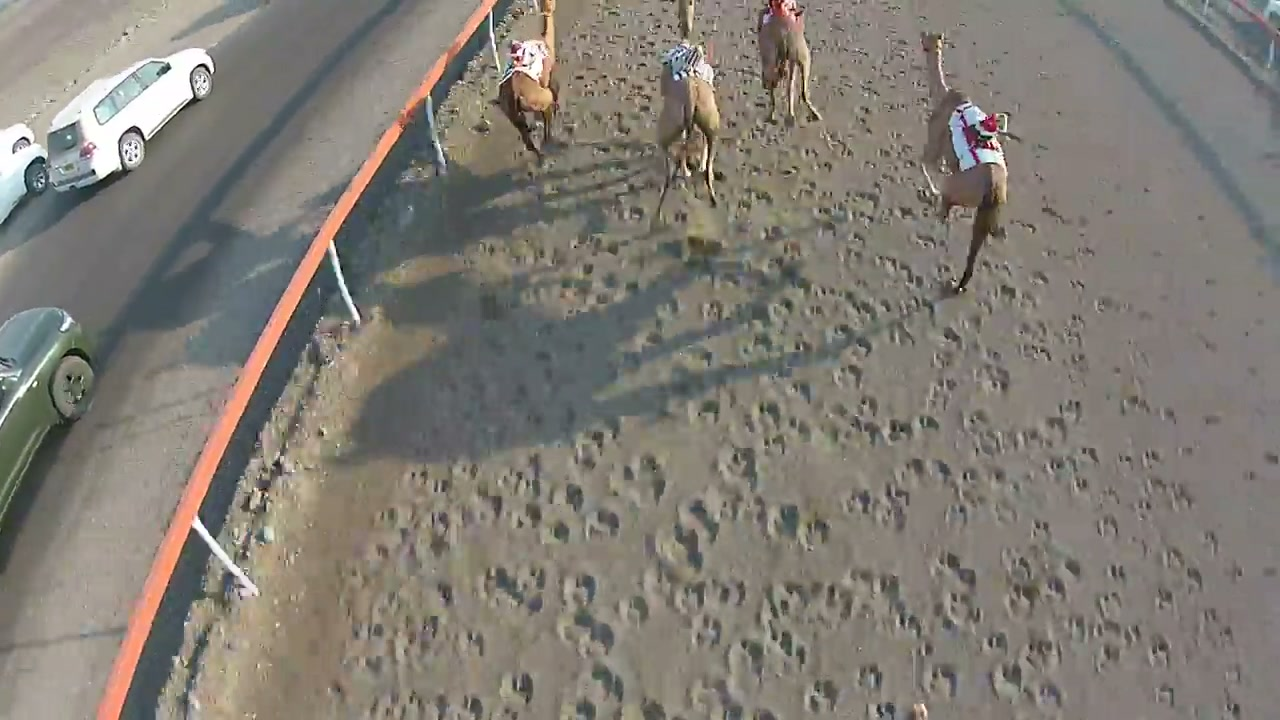animal_footprint: (173, 0, 1279, 719)
